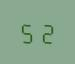five: (19, 19, 36, 43)
two: (37, 19, 54, 44)
